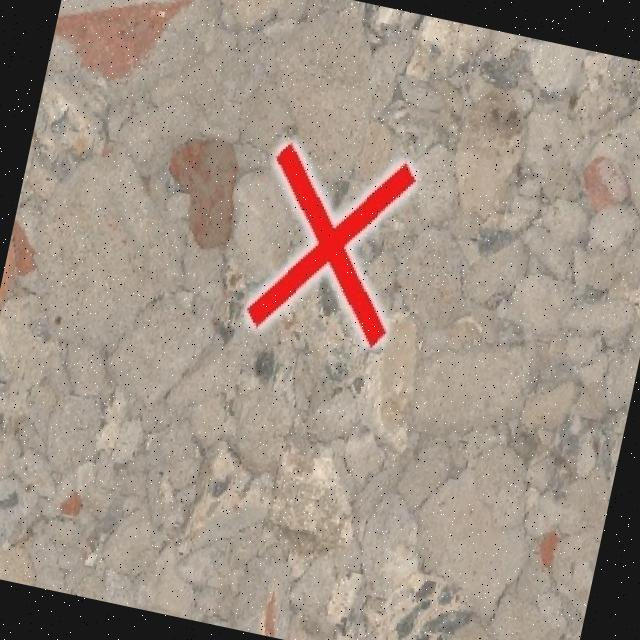x_marker: (241, 136, 419, 350)
